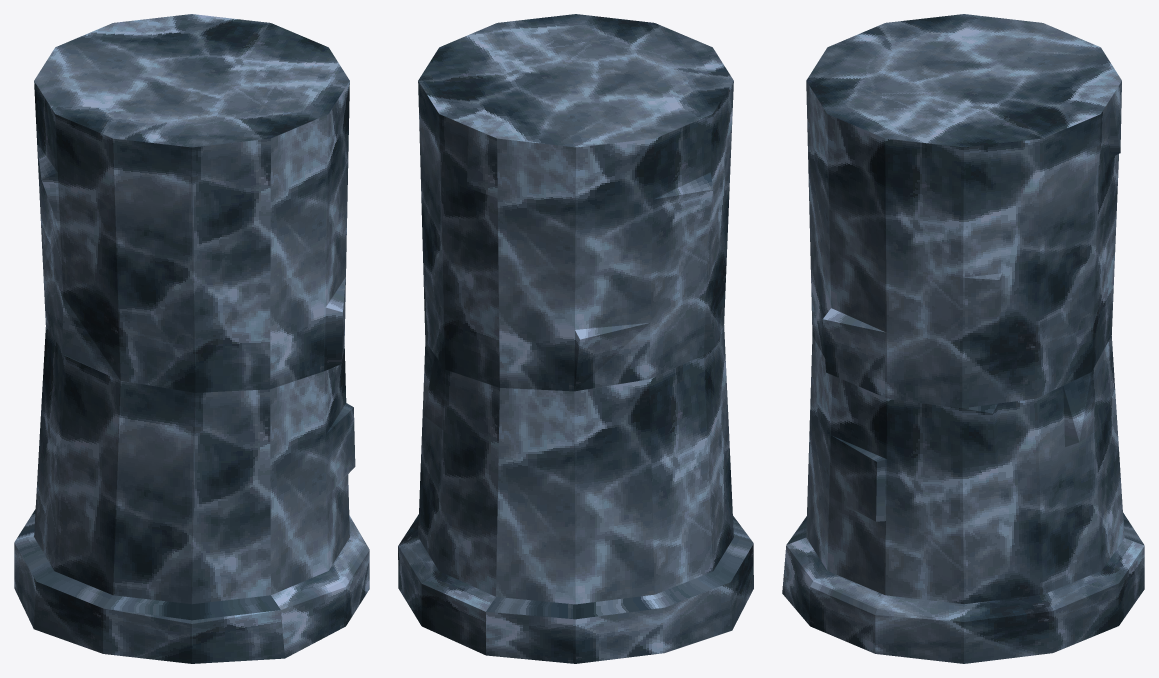
The model's file is item_castle_tower_ice.glb.
3 renders of one model, left to right at view 1: azimuth 30°, elevation 25°; view 2: azimuth 150°, elevation 25°; view 3: azimuth 270°, elevation 25°, orthographic.
Parts seen in each view (by area): view 1: Tower; view 2: Tower; view 3: Tower.
Boxes of the visible parts, box(x1,y1,x2,y2) form: Tower: box(14, 14, 369, 663); Tower: box(398, 14, 753, 663); Tower: box(782, 14, 1144, 663).
Bounding box in the file's own units: 1.37 × 2.16 × 1.38.
1 material, 1 textured.
